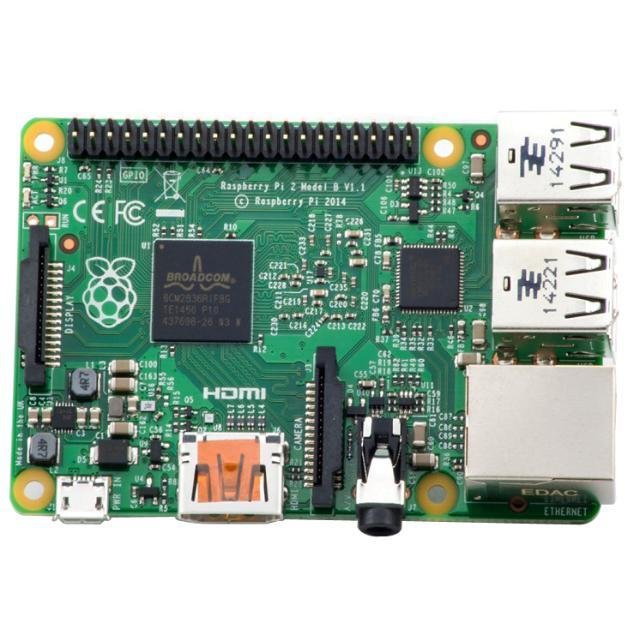Raspberry-Pi-2-B: (12, 112, 621, 536)
